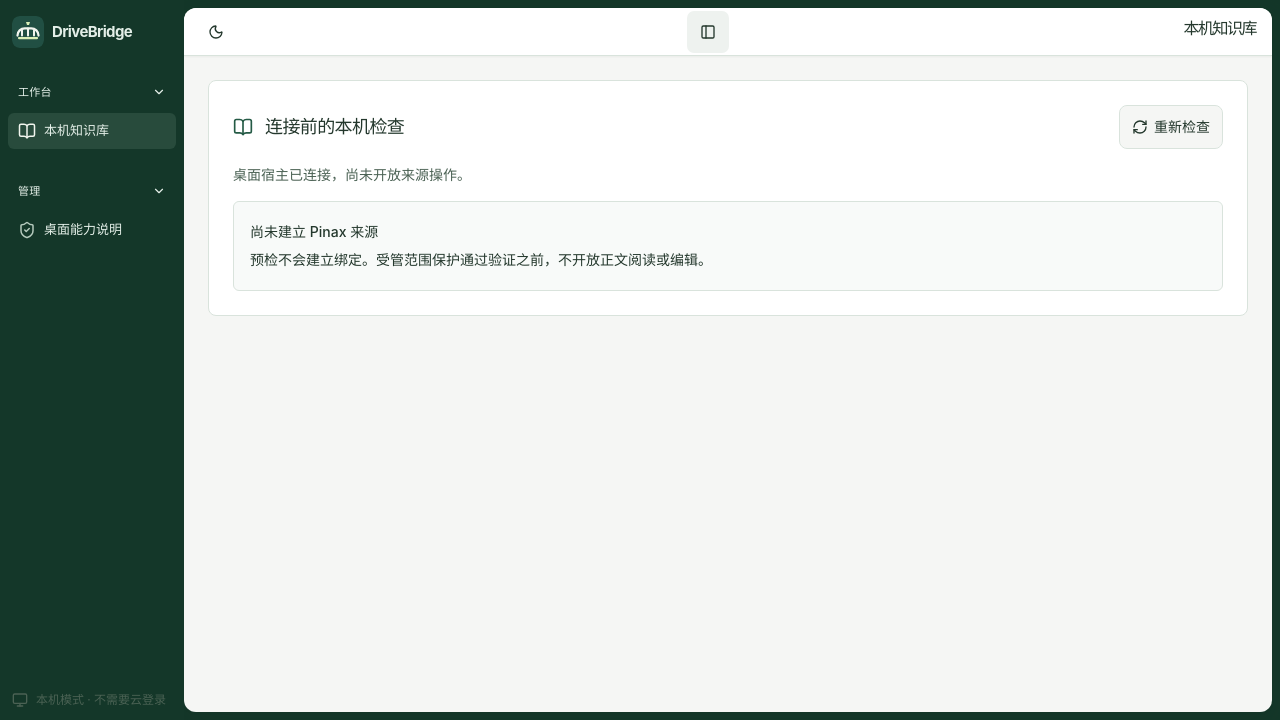
uses the real preload capability and never requests cloud session or fabricated sources
expect the text "桌面宿主已连接，尚未开放来源操作。" is shown: met, box [233,166,471,183]
expect the text "尚未建立 Pinax 来源" is shown: met, box [250,223,378,240]
Click the button "桌面能力说明". click: {"x": 92, "y": 230}
box: [8,212,176,248]
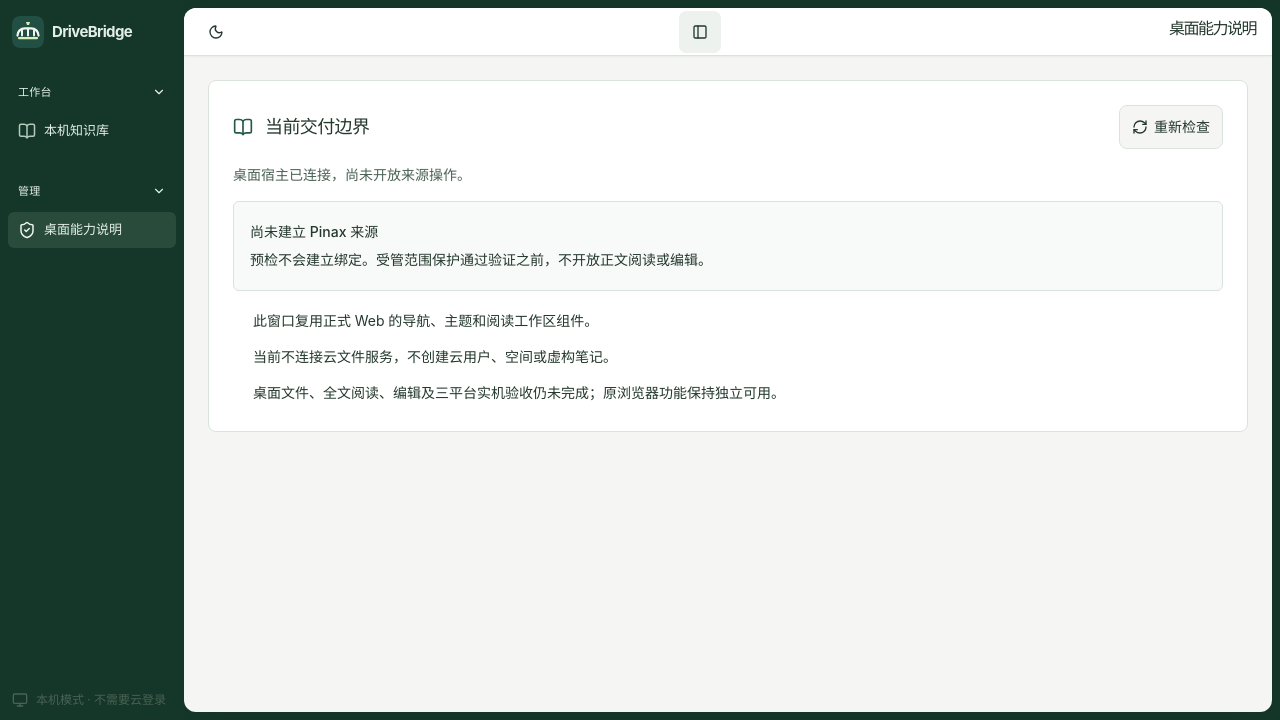
expect the heading "当前交付边界" is shown: met, box [265,113,369,141]
